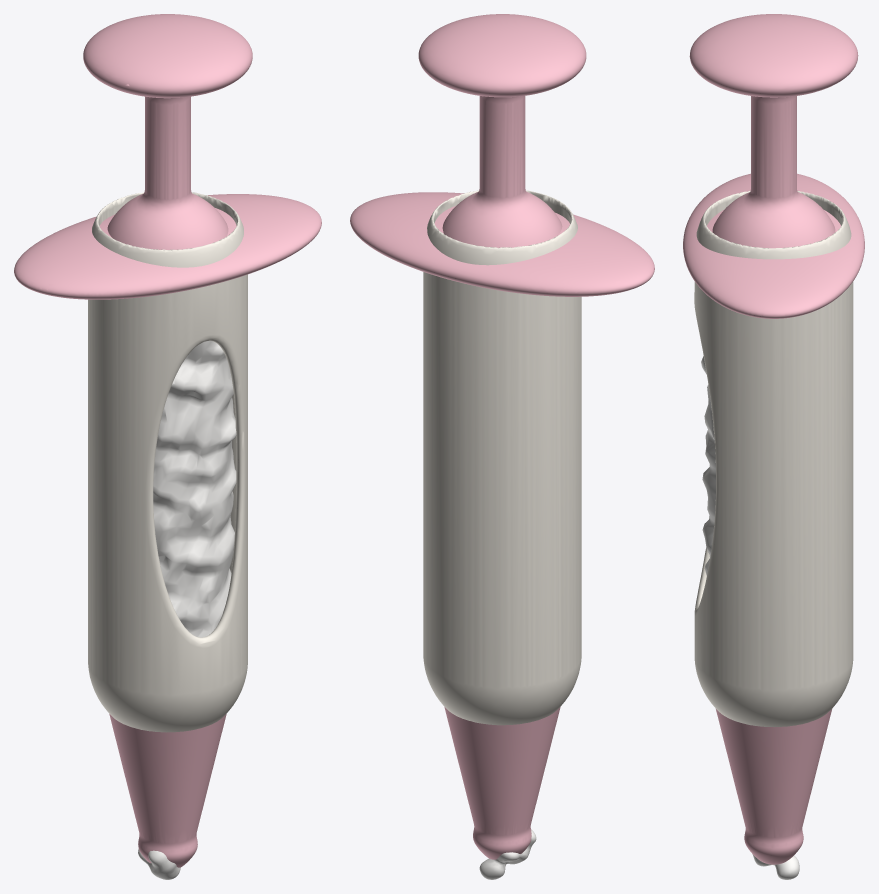
The model's file is Tool_CottonInjector.fbx.
The picture shows the model from 3 angles, left to right: view 1: azimuth 30°, elevation 25°; view 2: azimuth 150°, elevation 25°; view 3: azimuth 270°, elevation 25°; orthographic projection.
Visible parts, largest first — view 1: Tool_CottonInjector, PLUNGER, COTTON; view 2: Tool_CottonInjector, PLUNGER; view 3: Tool_CottonInjector, PLUNGER, COTTON.
Boxes of the visible parts, x1,y1,x2,y2 form: Tool_CottonInjector: (14, 192, 321, 879); PLUNGER: (83, 14, 252, 249); COTTON: (153, 341, 236, 637); Tool_CottonInjector: (350, 190, 654, 879); PLUNGER: (418, 14, 586, 247); Tool_CottonInjector: (683, 173, 864, 879); PLUNGER: (689, 14, 858, 248); COTTON: (701, 356, 715, 575).
Bounding box in the file's own units: 0.05 × 0.1381 × 0.027.
